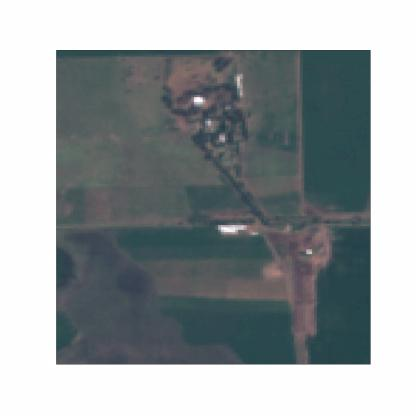silobolsa: (214, 224, 249, 236), (236, 74, 244, 99)
